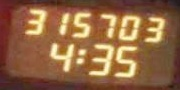0: (116, 13, 140, 41)
1: (57, 11, 70, 35)
3: (86, 43, 113, 76), (22, 8, 46, 35), (143, 16, 164, 42)
4: (47, 41, 73, 71)
5: (113, 44, 138, 77), (70, 11, 91, 37)
7: (98, 13, 115, 37)
X: (75, 48, 85, 64)
